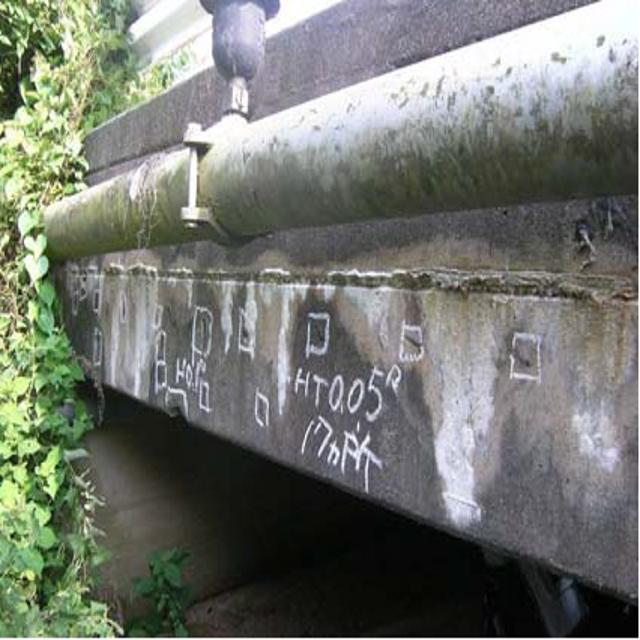freelime: (80, 274, 561, 426)
